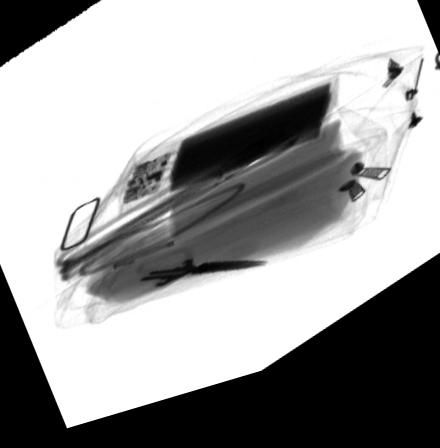Powerbank: (115, 98, 335, 221)
Scissors: (116, 252, 270, 306)
